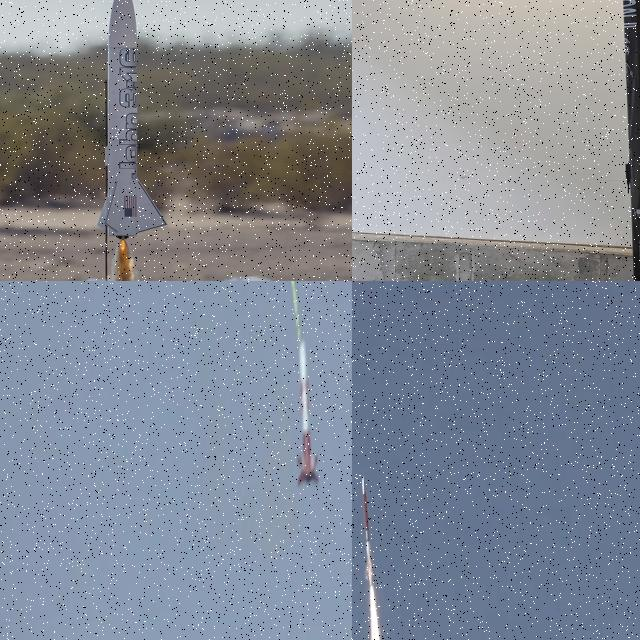Rocket: (95, 0, 170, 239), (296, 342, 319, 485), (360, 475, 375, 586)
